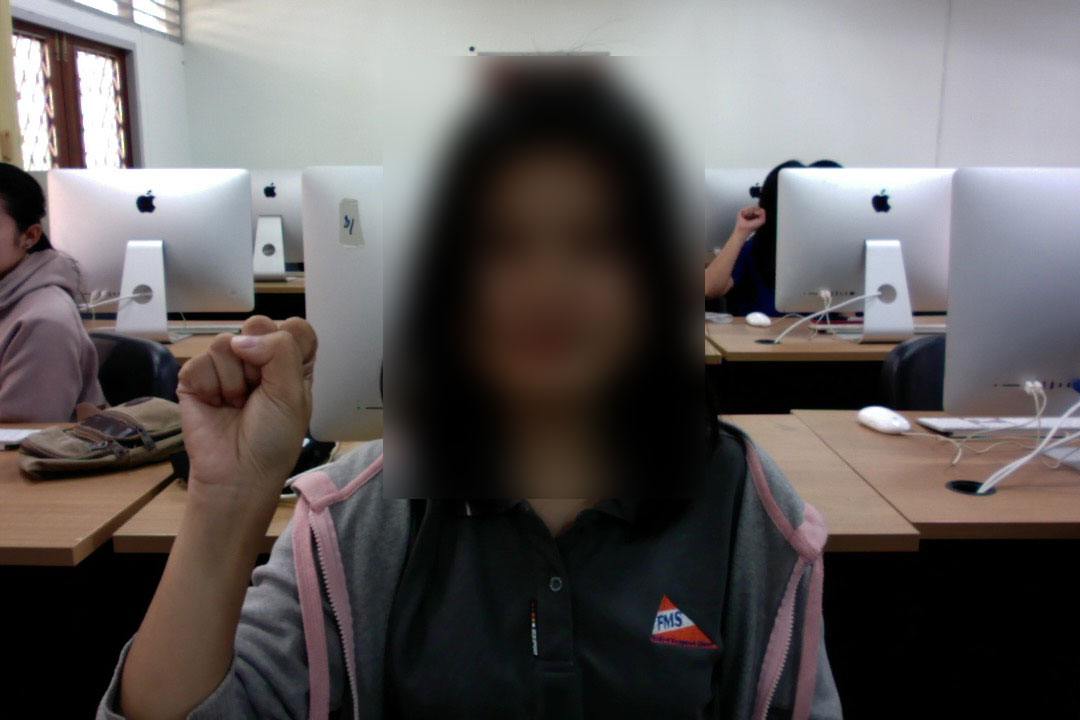sor: (170, 308, 325, 504)
